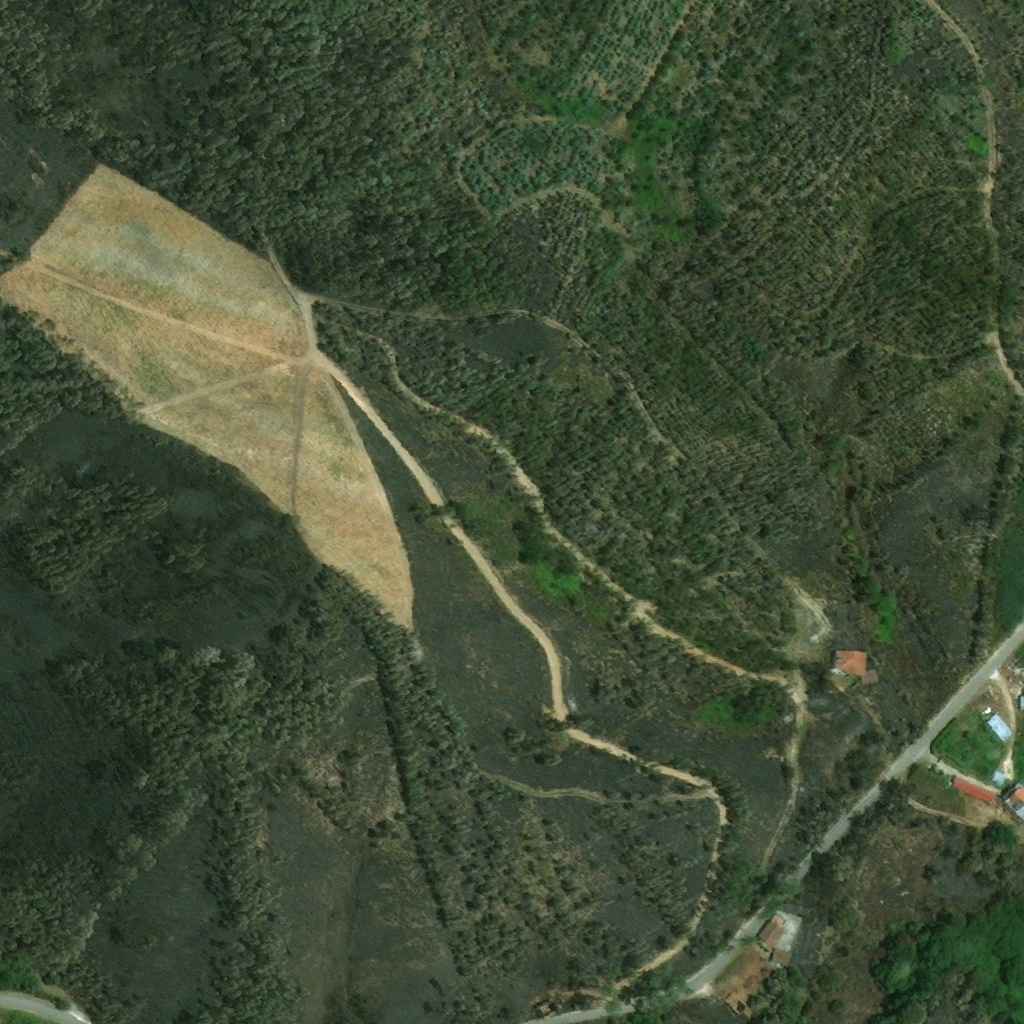0 no-damage: (757, 912, 789, 951), (951, 775, 997, 802), (832, 648, 871, 675), (986, 711, 1014, 742), (771, 945, 793, 965), (989, 767, 1009, 785)
3 destroyed: (535, 999, 562, 1018), (725, 991, 747, 1013)
4 un-classified: (999, 782, 1023, 819), (1018, 695, 1023, 711)
